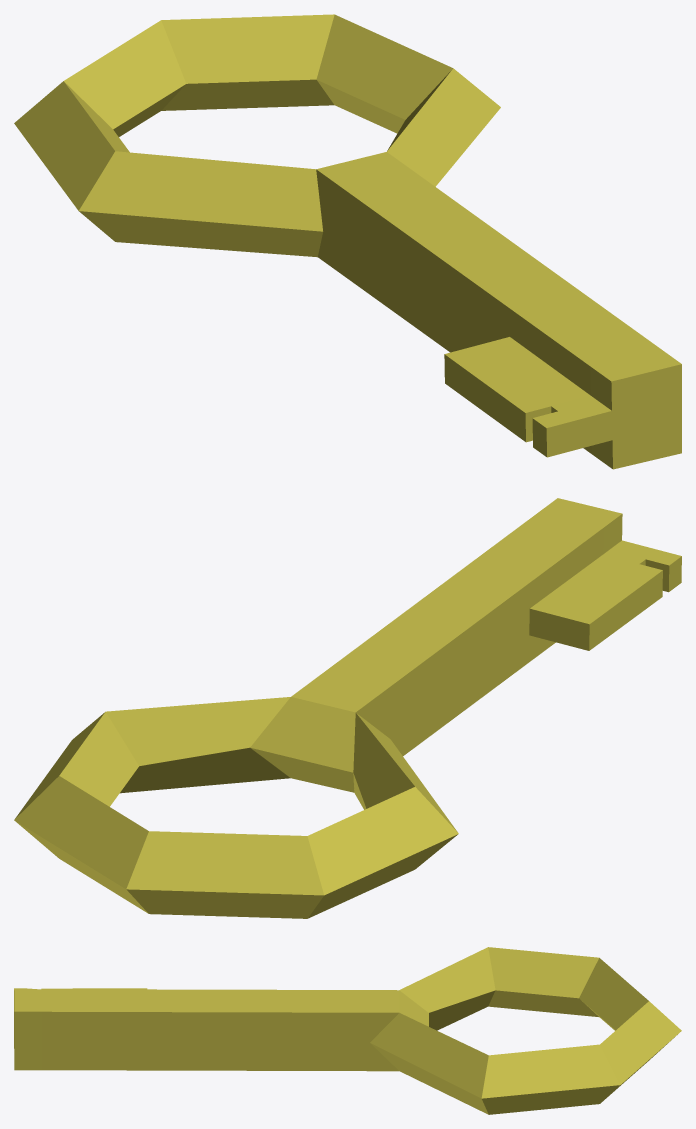
The model's file is Chave Inteira.fbx.
3 renders of one model, top to bottom at view 1: azimuth 30°, elevation 25°; view 2: azimuth 150°, elevation 25°; view 3: azimuth 270°, elevation 25°, orthographic. The views are drawn at different scales.
Parts seen in each view (by area): view 1: Torus.001; view 2: Torus.001; view 3: Torus.001.
Boxes of the visible parts, box(x1,y1,x2,y2) form: Torus.001: box(14, 14, 681, 469); Torus.001: box(14, 498, 681, 918); Torus.001: box(14, 947, 681, 1114).
Bounding box in the file's own units: 244 × 50.85 × 508.
1 material, 1 textured.
